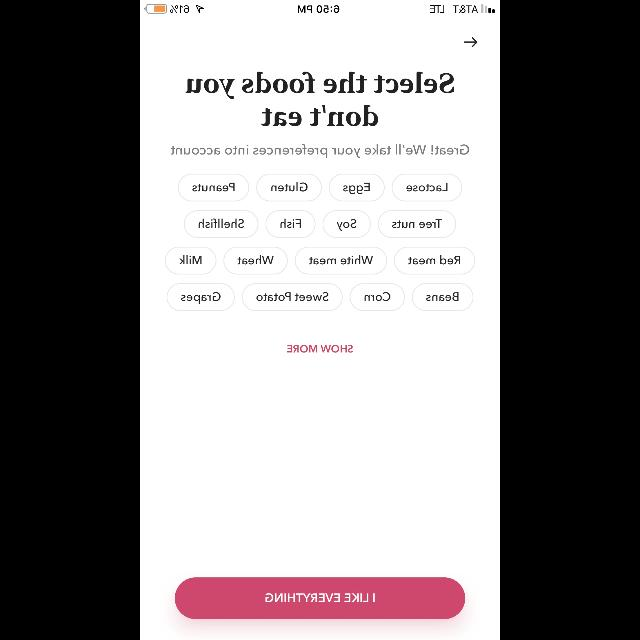icon: (464, 38, 476, 48)
text: (186, 72, 454, 126), (171, 144, 469, 158), (287, 345, 353, 353)
textbutton: (175, 577, 465, 619), (242, 283, 342, 311), (295, 247, 387, 275), (394, 247, 474, 275), (378, 210, 457, 238), (184, 210, 258, 238), (178, 174, 250, 202), (392, 174, 462, 202), (167, 283, 235, 311), (256, 174, 322, 202), (224, 247, 288, 275), (411, 283, 473, 311), (328, 174, 384, 202), (350, 283, 404, 311), (165, 247, 217, 275), (266, 210, 316, 238), (323, 210, 371, 238)
uppertaskbar: (140, 0, 500, 14)
